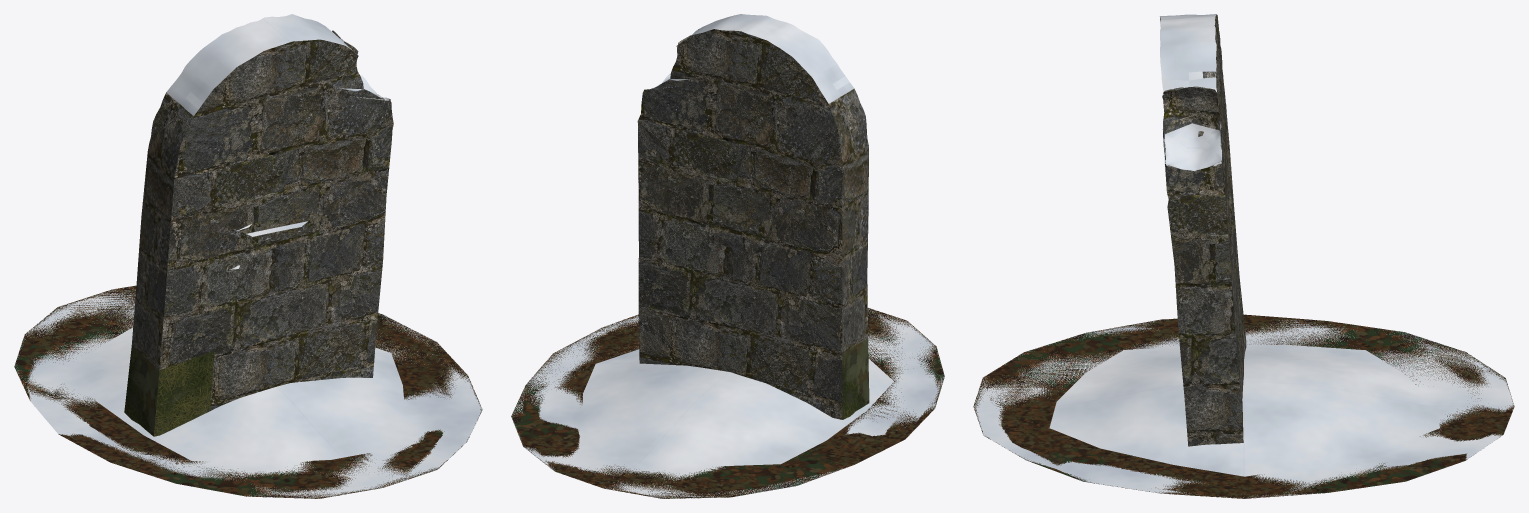
The model's file is snowy-grave-marker-v01.glb.
3 views of the same model, side by side, from view 1: azimuth 30°, elevation 25°; view 2: azimuth 150°, elevation 25°; view 3: azimuth 270°, elevation 25° (orthographic). The views are drawn at different scales.
Parts seen in each view (by area): view 1: grave-marker; view 2: grave-marker; view 3: grave-marker.
Part boxes in pixels (box(x1,y1,x2,y2)): grave-marker: box(14, 14, 482, 498); grave-marker: box(511, 14, 944, 498); grave-marker: box(973, 14, 1514, 498).
Size of the model in its own units: 1.56 by 1.53 by 1.94.
Materials: 4 (4 with a texture image).
